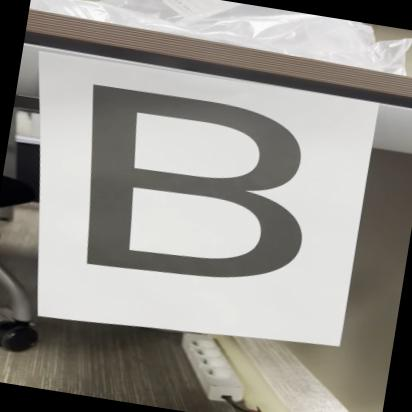seat: (33, 72, 348, 324)
